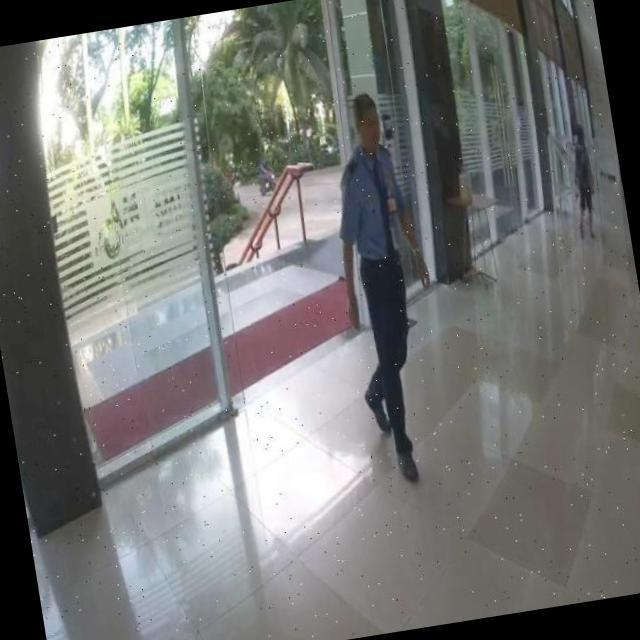person: (304, 86, 462, 492), (564, 122, 606, 245)
